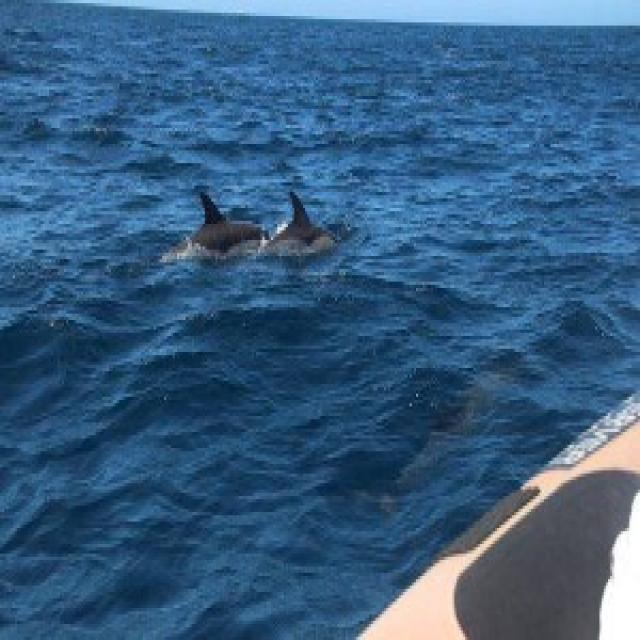Dolphin: (162, 176, 262, 270), (266, 169, 351, 272)
